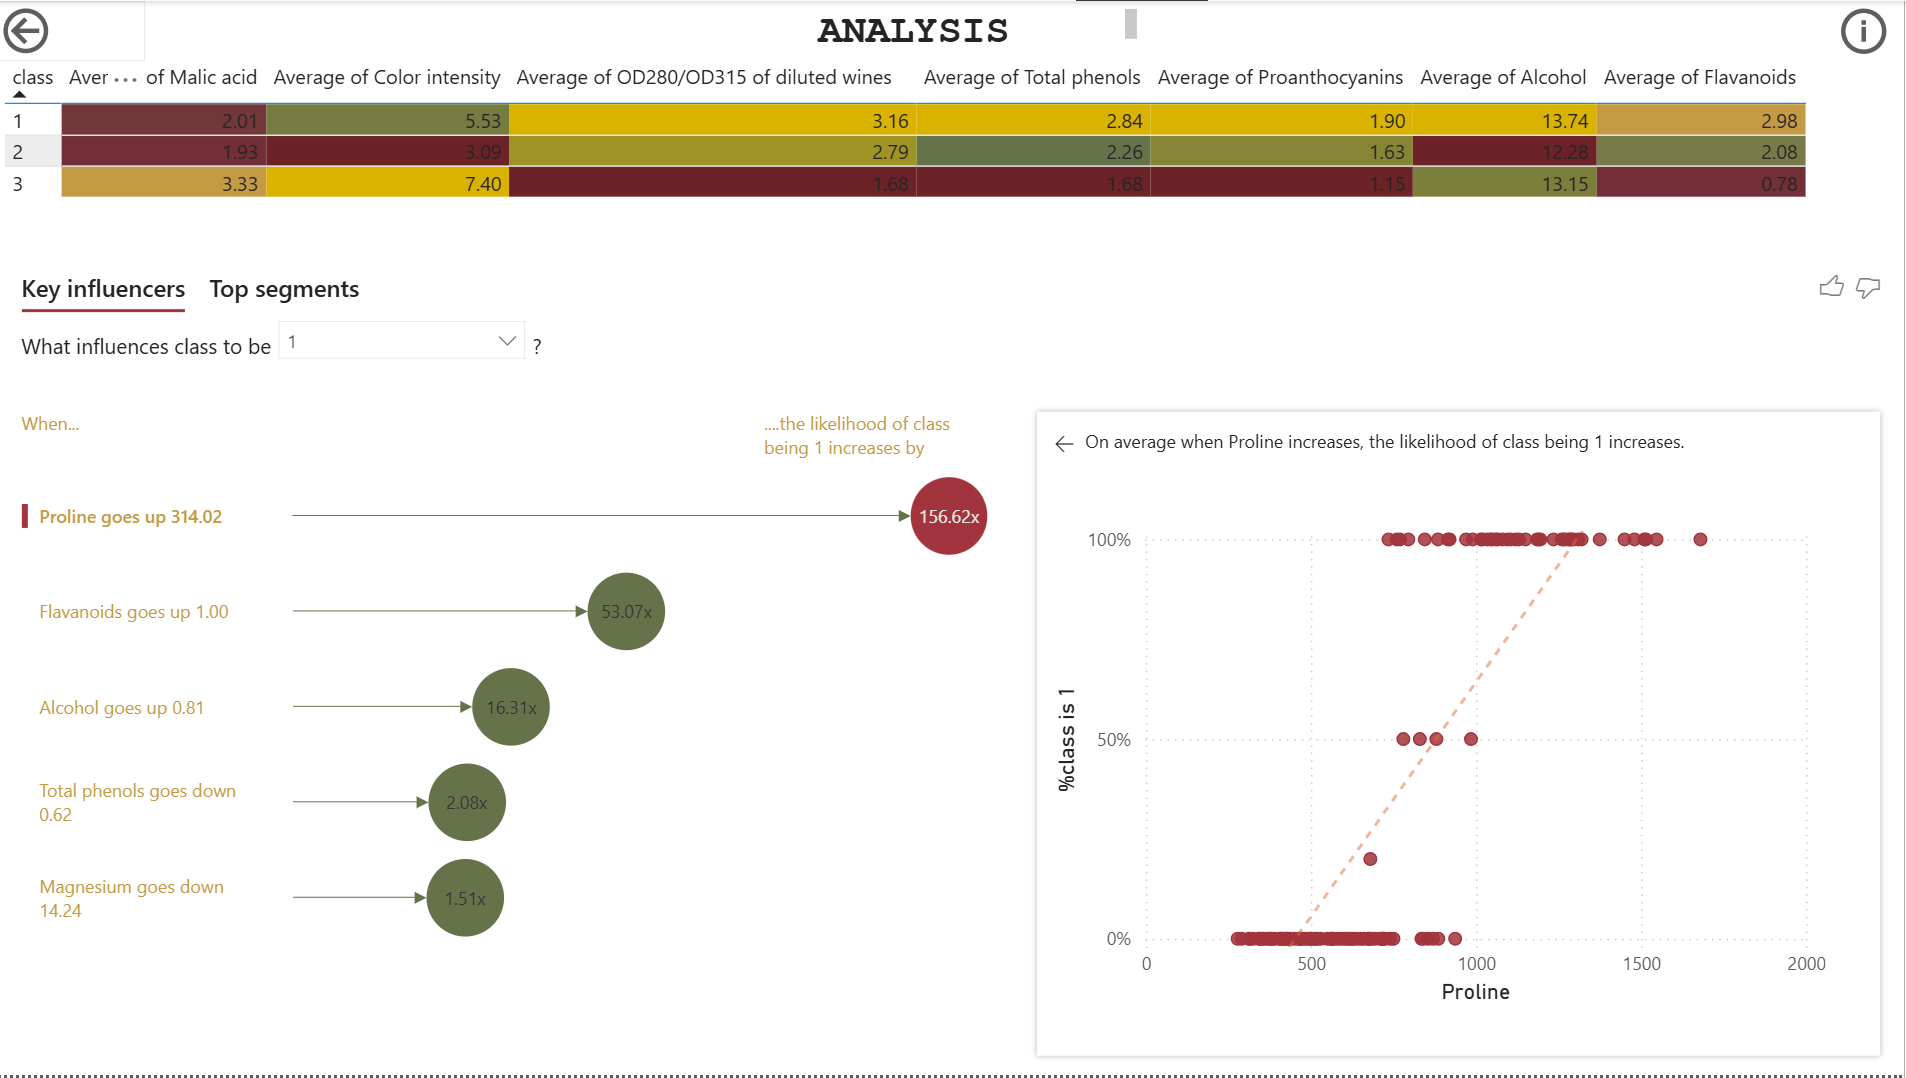

What the dashboard file says about the page in this screenshot:
{"tool":"powerbi","page":{"name":"Analysis","canvas":[1280,720],"ordinal":1},"visuals":[{"type":"keyDriversVisual","fields":{"ExplainBy":["Wine dataset.Alcohol","Wine dataset.Magnesium","Wine dataset.Proline ","Wine dataset.Hue","Wine dataset.Ash","Wine dataset.Proanthocyanins","Wine dataset.Malic acid","Wine dataset.Flavanoids","Wine dataset.Total phenols"],"Target":["Wine dataset.class"]},"box":[0,167.8,1280,552.2],"z":0},{"type":"tableEx","fields":{"Values":["Wine dataset.class","Avg(Wine dataset.Malic acid)","Avg(Wine dataset.Color intensity)","Avg(Wine dataset.OD280/OD315 of diluted wines)","Avg(Wine dataset.Total phenols)","Avg(Wine dataset.Proanthocyanins)","Avg(Wine dataset.Alcohol)","Avg(Wine dataset.Flavanoids)"]},"box":[0,25.6,1280,130],"z":1000},{"type":"textbox","box":[470,0,300,34.4],"z":2000},{"type":"textbox","box":[776.7,121.1,503.3,46.7],"z":3000},{"type":"tableEx","fields":{"Values":["Wine dataset.class","Avg(Wine dataset.Malic acid)","Avg(Wine dataset.Color intensity)","Avg(Wine dataset.OD280/OD315 of diluted wines)","Avg(Wine dataset.Total phenols)","Avg(Wine dataset.Proanthocyanins)","Avg(Wine dataset.Alcohol)","Avg(Wine dataset.Flavanoids)"]},"box":[0,35.6,1280,130],"z":4000},{"type":"actionButton","box":[0,0,100,40],"z":4002},{"type":"actionButton","box":[1232.5,0,47.5,40.6],"z":4003}]}

Visuals, with their boxes in screenshot pixels (x1, y1, x2, y2), scaled from the page's 1280x720 canvas onto the 1906x1078 screenshot:
keyDriversVisual - Wine dataset.Alcohol x Wine dataset.Magnesium: x1=0 y1=251 x2=1905 y2=1077
tableEx - Wine dataset.class x Avg(Wine dataset.Malic acid): x1=0 y1=38 x2=1905 y2=233
textbox: x1=700 y1=0 x2=1147 y2=52
textbox: x1=1157 y1=181 x2=1905 y2=251
tableEx - Wine dataset.class x Avg(Wine dataset.Malic acid): x1=0 y1=53 x2=1905 y2=248
actionButton: x1=0 y1=0 x2=149 y2=60
actionButton: x1=1835 y1=0 x2=1905 y2=61
